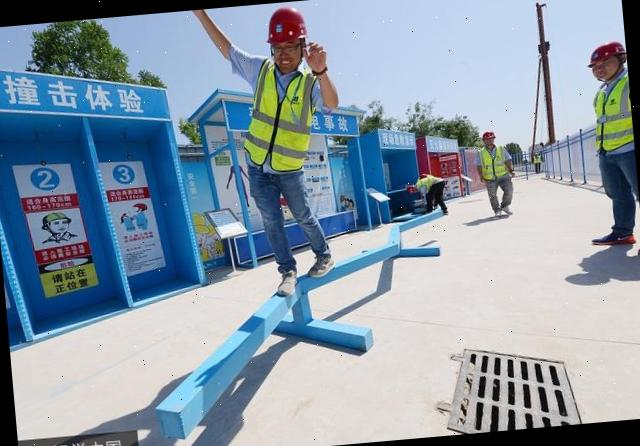helmet: (261, 2, 311, 49), (584, 40, 626, 66), (481, 129, 498, 140)
wear: (240, 68, 320, 178), (594, 74, 636, 159), (478, 145, 508, 182)
